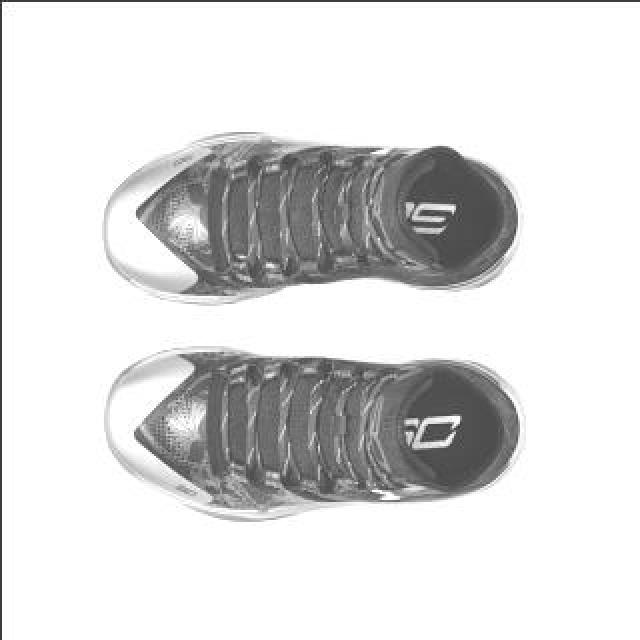shoe: (96, 341, 528, 526), (101, 341, 529, 525), (97, 126, 525, 309), (97, 128, 521, 308)
